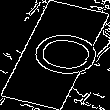O_E: (9, 27, 101, 83)
